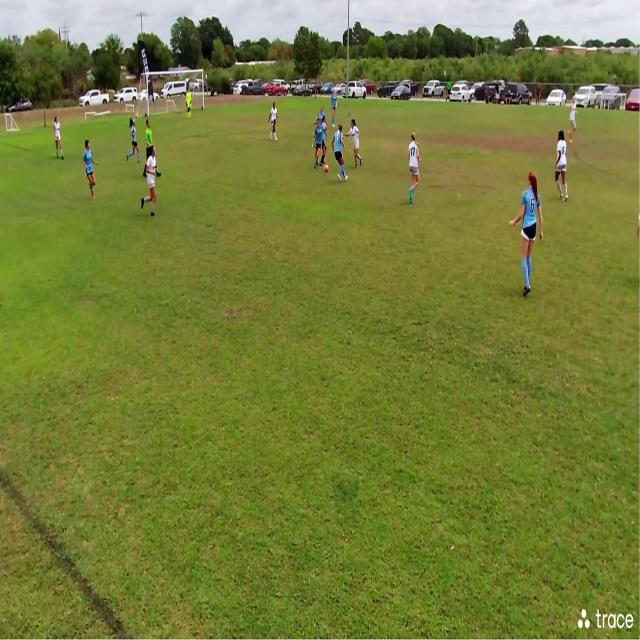ball: (324, 162, 330, 175)
team1: (518, 169, 546, 299), (332, 124, 348, 184), (83, 141, 98, 201), (128, 118, 142, 162), (314, 119, 322, 172), (318, 105, 325, 117)
team2: (407, 131, 422, 208), (554, 130, 570, 202), (146, 152, 162, 218), (350, 118, 364, 172), (54, 115, 64, 161), (270, 102, 279, 142), (322, 116, 330, 159), (570, 102, 579, 140), (332, 89, 339, 124)
